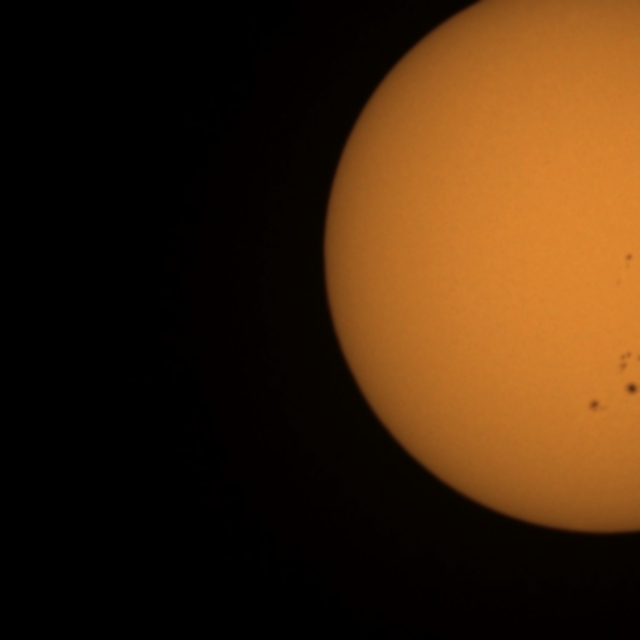sunspot: (617, 349, 639, 376), (619, 250, 635, 279), (623, 379, 639, 398), (587, 398, 606, 414), (623, 251, 634, 266), (614, 277, 623, 288)
